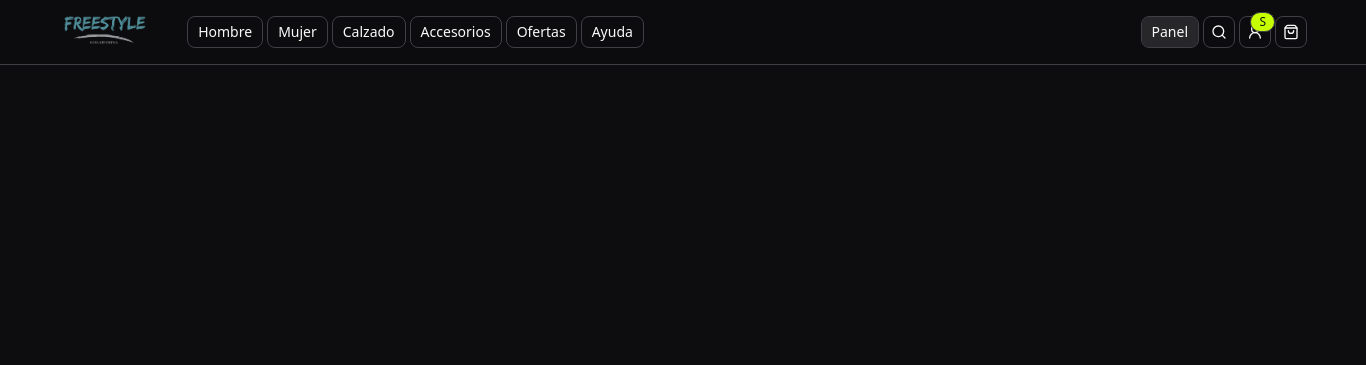
Test: StoreHeader › shows staff account menu when the session persists
Click the button named "cuenta, admin@zeqebellino.com": (1255, 32) [1239,16,1271,48]
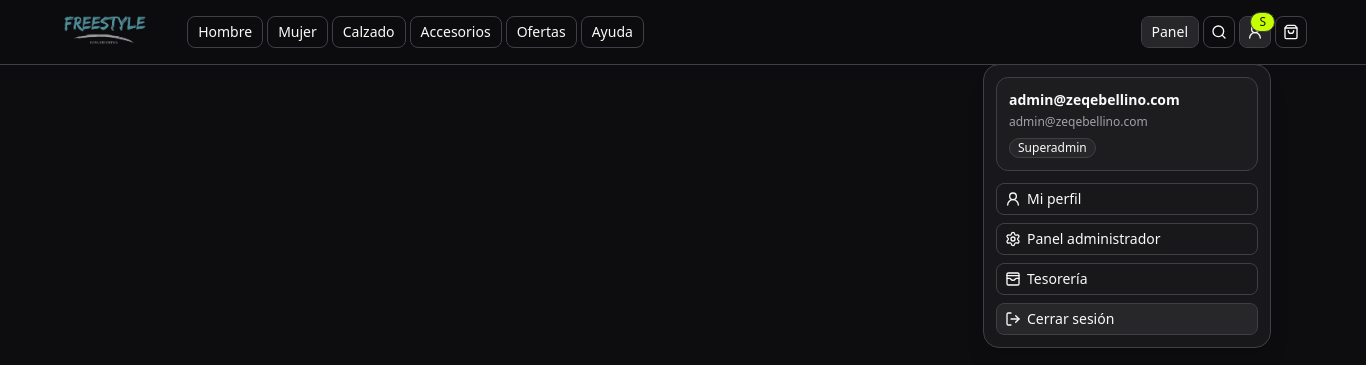
Expected: the menu item "Cerrar sesión" is shown, [996,303,1258,335]
